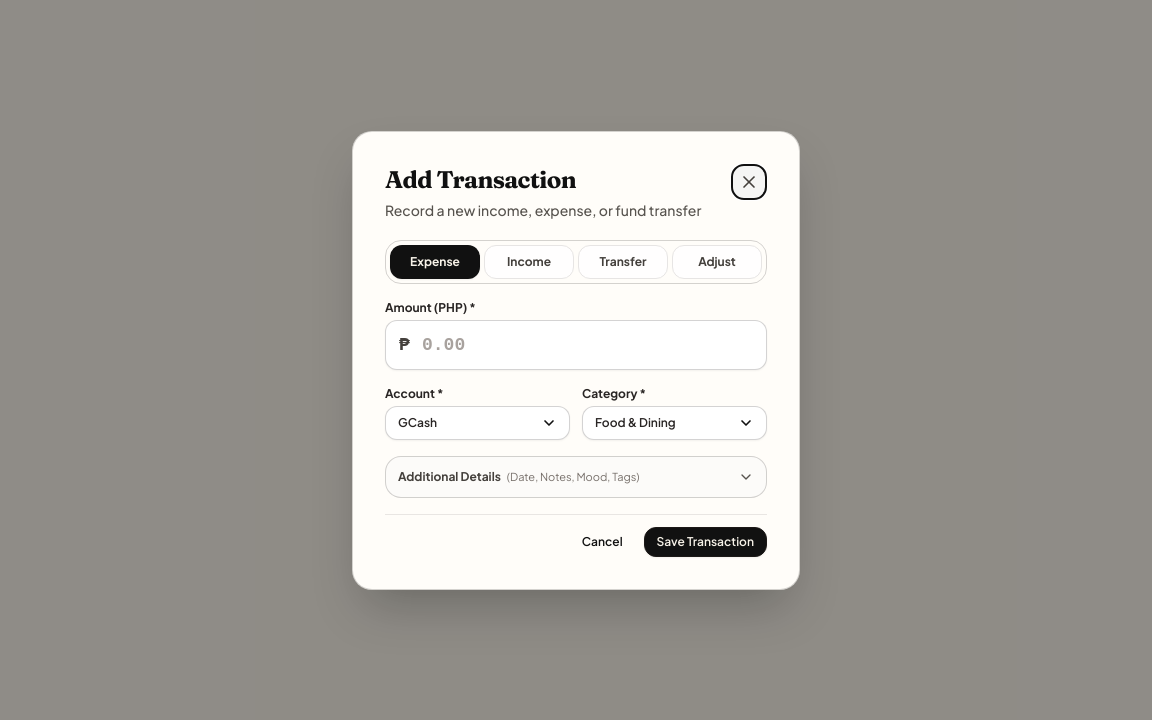
Test: TransactionFormModal Component (TDD) › Note Autocomplete Suggestions › populates note input and closes dropdown when suggestion is clicked
Replace the text in the dropdown with test id "transaction-notes-input" with "nagi" at (576, 476), box [385,456,767,498]
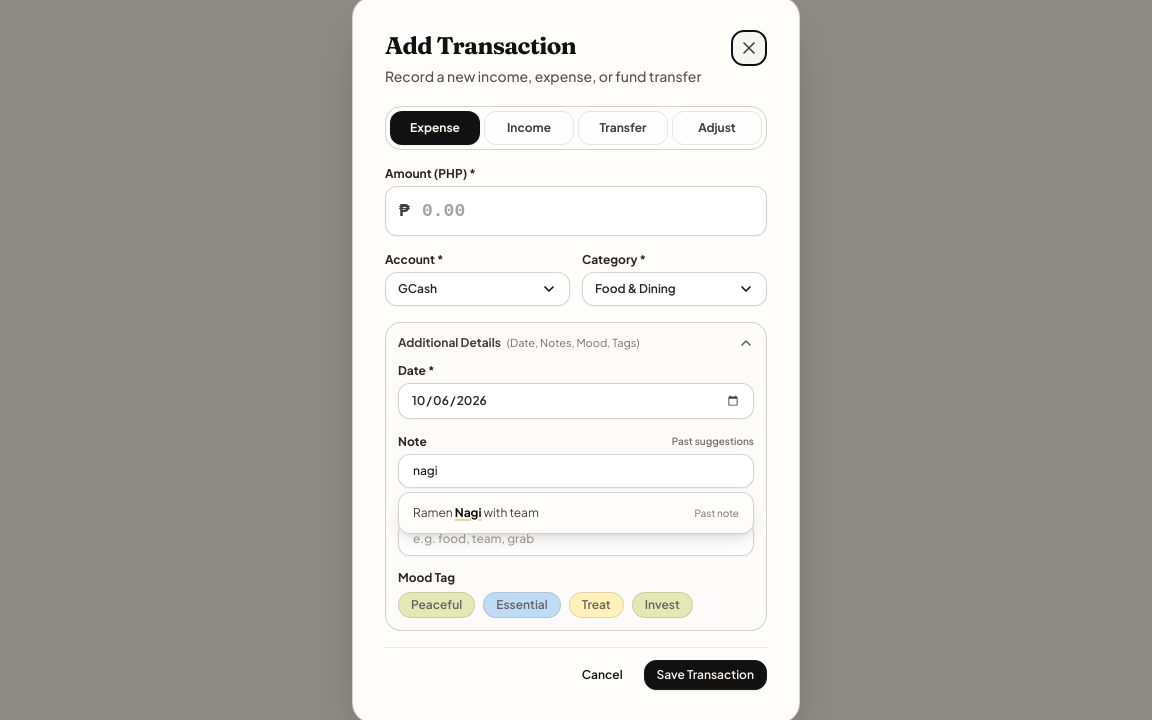
Click the option with test id "note-suggestion-0".
click(434, 512)  # box [413,505,739,520]
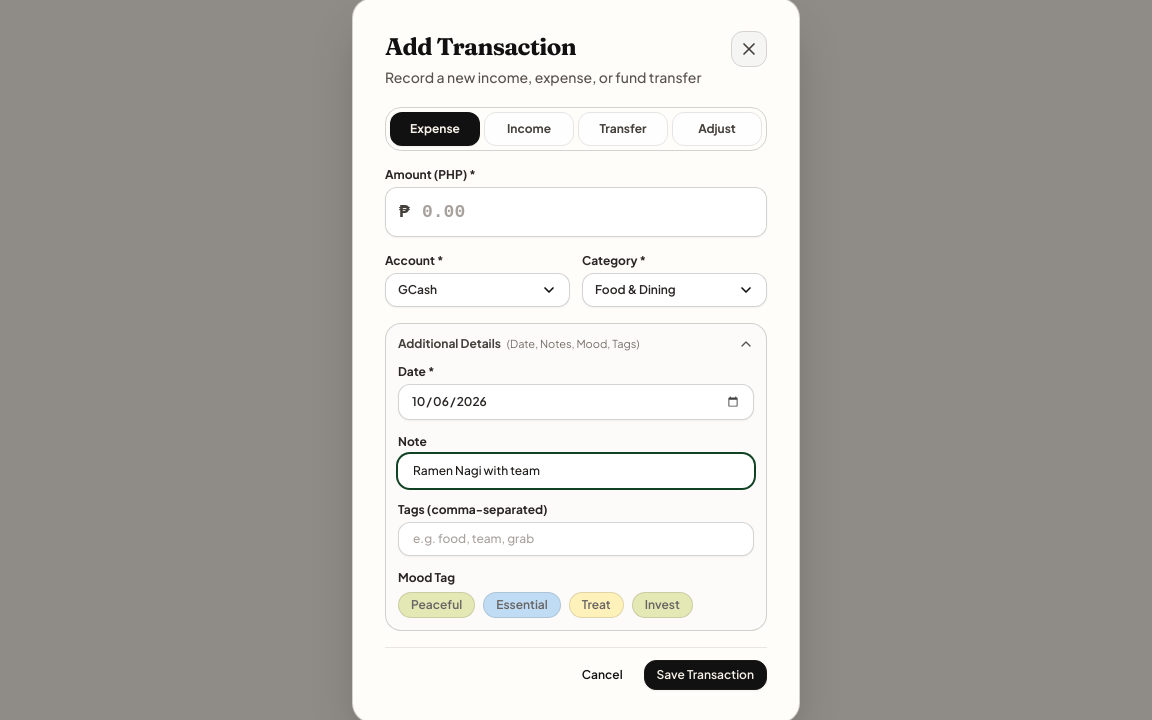
expect the dropdown with test id "transaction-notes-input" holds "Ramen Nagi with team": met, box [398,454,754,488]
expect the list with test id "note-suggestions-dropdown" is gone: met
